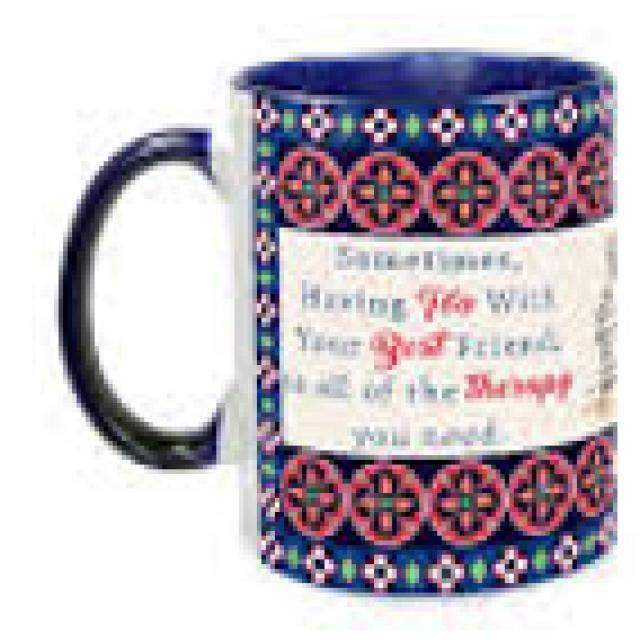taza: (58, 47, 618, 591)
